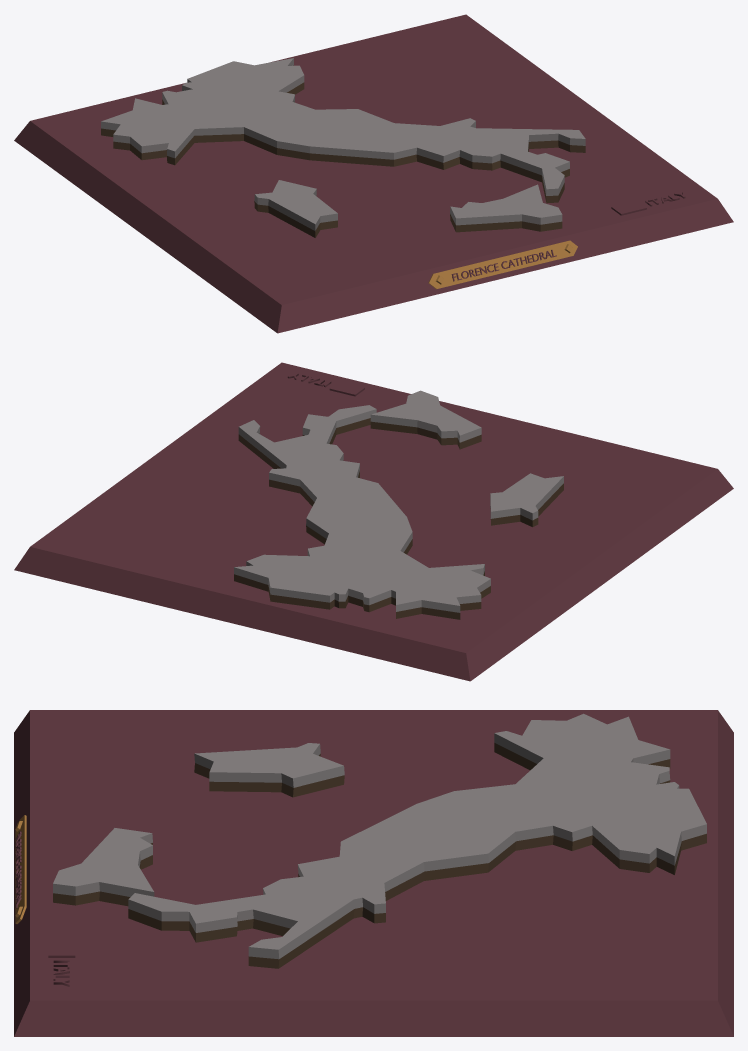
File: SM_Island_Cathedral_Florence_Landmark.fbx
The picture shows the model from 3 angles, top to bottom: view 1: azimuth 30°, elevation 25°; view 2: azimuth 150°, elevation 25°; view 3: azimuth 270°, elevation 25°; orthographic projection. The views are drawn at different scales.
Parts seen in each view (by area): view 1: Island_Cathedral_Florence_Landmark; view 2: Island_Cathedral_Florence_Landmark; view 3: Island_Cathedral_Florence_Landmark.
Part boxes in pixels (<box>): Island_Cathedral_Florence_Landmark: <box>14,14,733,333</box>; Island_Cathedral_Florence_Landmark: <box>14,362,733,681</box>; Island_Cathedral_Florence_Landmark: <box>14,710,733,1036</box>.
Bounding box in the file's own units: 68.5 × 5.09 × 68.5.
